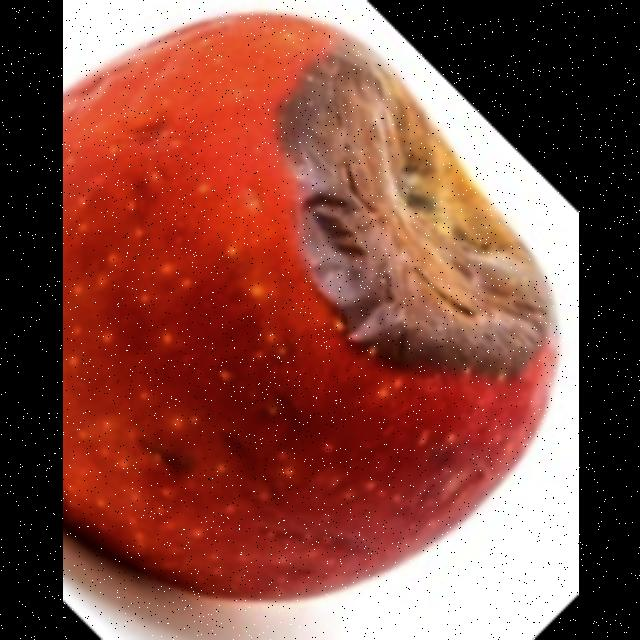Apel Tidak Segar: (61, 1, 548, 636)
